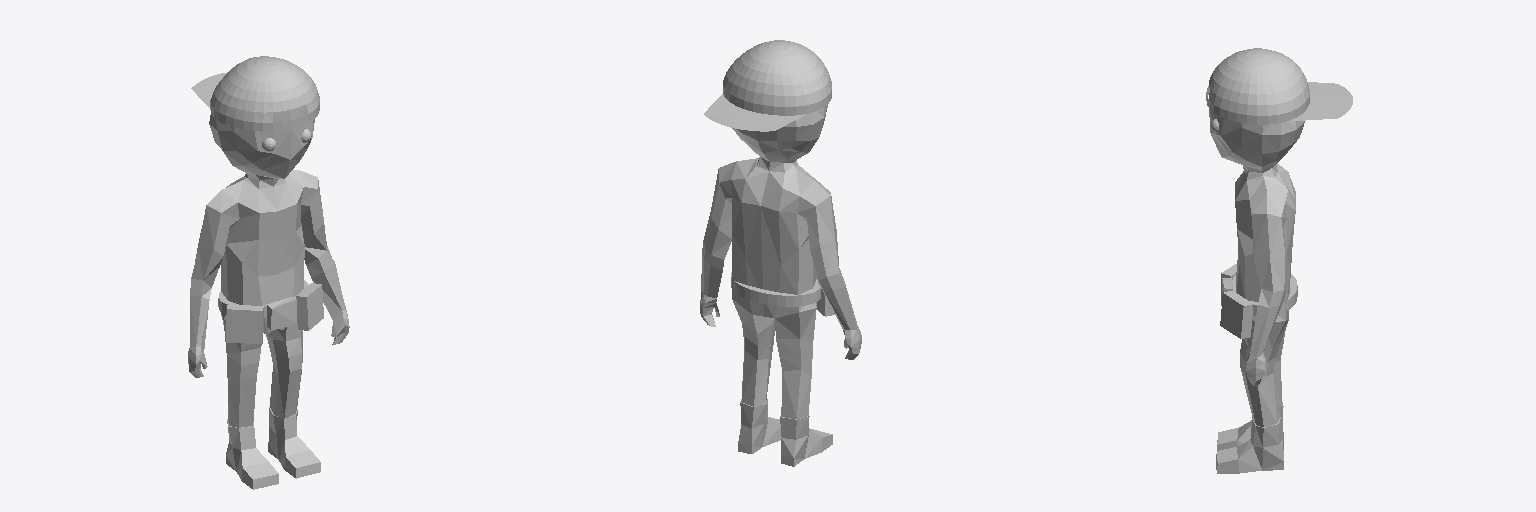
File: Main_Character_Pickup_Paint_1.obj
3 views of the same model, side by side, from view 1: azimuth 30°, elevation 25°; view 2: azimuth 150°, elevation 25°; view 3: azimuth 270°, elevation 25° (orthographic).
Visible parts, largest first — view 1: Main_Character_Test.003_Main_Character_Test.004; view 2: Main_Character_Test.003_Main_Character_Test.004; view 3: Main_Character_Test.003_Main_Character_Test.004.
Boxes of the visible parts, x1=… form: Main_Character_Test.003_Main_Character_Test.004: x1=188, y1=56, x2=349, y2=489; Main_Character_Test.003_Main_Character_Test.004: x1=700, y1=40, x2=861, y2=466; Main_Character_Test.003_Main_Character_Test.004: x1=1206, y1=48, x2=1352, y2=473.
Size of the model in its own units: 1.63 by 3.98 by 1.31.